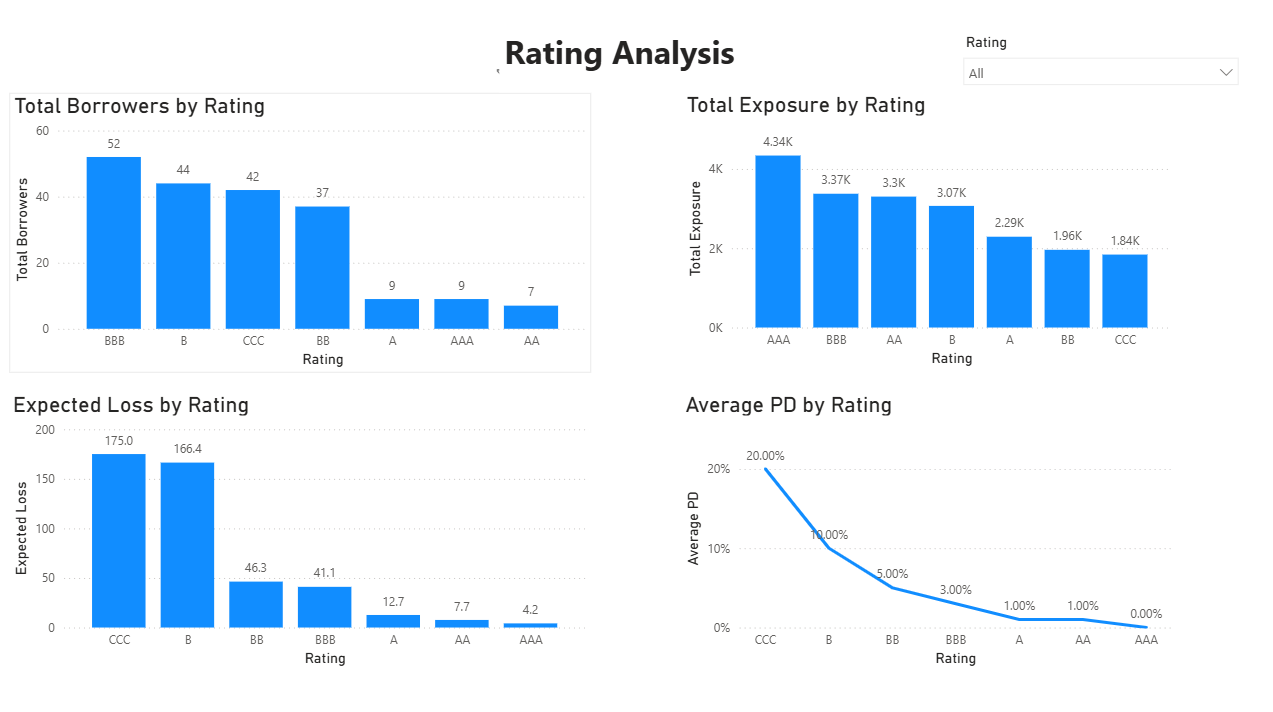

The dashboard page shown, as its layout file describes it:
{"tool":"powerbi","page":{"name":"Rating Analysis","canvas":[1280,720],"ordinal":2},"visuals":[{"type":"clusteredColumnChart","fields":{"Category":["Credit_Risk_Portfolio.Rating"],"Y":["Credit_Risk_Portfolio.Total Borrowers"]},"box":[11,94.2,583.3,280],"z":0},{"type":"clusteredColumnChart","fields":{"Y":["Sum(Credit_Risk_Portfolio.EAD)"],"Category":["Credit_Risk_Portfolio.Rating"]},"box":[683.6,92.9,495.2,280],"z":1000},{"type":"clusteredColumnChart","fields":{"Y":["Sum(Credit_Risk_Portfolio.Expected_Loss)"],"Category":["Credit_Risk_Portfolio.Rating"]},"box":[9.8,392.5,583.3,280],"z":2000},{"type":"lineChart","fields":{"Category":["Credit_Risk_Portfolio.Rating"],"Y":["Avg(Credit_Risk_Portfolio.PD)"]},"box":[682.3,392.5,496.5,280],"z":3000},{"type":"textbox","box":[501.4,25.7,277.6,67.3],"z":4000},{"type":"slicer","fields":{"Values":["Credit_Risk_Portfolio.Rating"]},"box":[955,30.6,295.9,63.6],"z":5000}]}

Visuals, with their boxes in screenshot pixels (x1, y1, x2, y2), scaled from the page's 1280x720 canvas onto the 1273x712 screenshot:
clusteredColumnChart - Credit_Risk_Portfolio.Rating x Credit_Risk_Portfolio.Total Borrowers: (left=11, top=93, right=591, bottom=370)
clusteredColumnChart - Sum(Credit_Risk_Portfolio.EAD) x Credit_Risk_Portfolio.Rating: (left=680, top=92, right=1172, bottom=369)
clusteredColumnChart - Sum(Credit_Risk_Portfolio.Expected_Loss) x Credit_Risk_Portfolio.Rating: (left=10, top=388, right=590, bottom=665)
lineChart - Credit_Risk_Portfolio.Rating x Avg(Credit_Risk_Portfolio.PD): (left=679, top=388, right=1172, bottom=665)
textbox: (left=499, top=25, right=775, bottom=92)
slicer - Credit_Risk_Portfolio.Rating: (left=950, top=30, right=1244, bottom=93)
